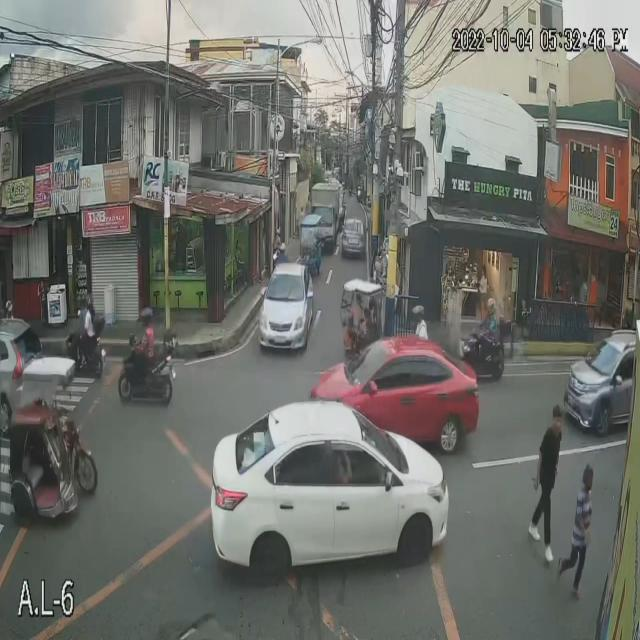Full-Faced: (483, 290, 499, 322), (138, 301, 153, 331), (88, 294, 96, 312)
Half-Faced: (410, 302, 427, 328)
Not-Wearing-Helmet: (77, 296, 91, 318)
